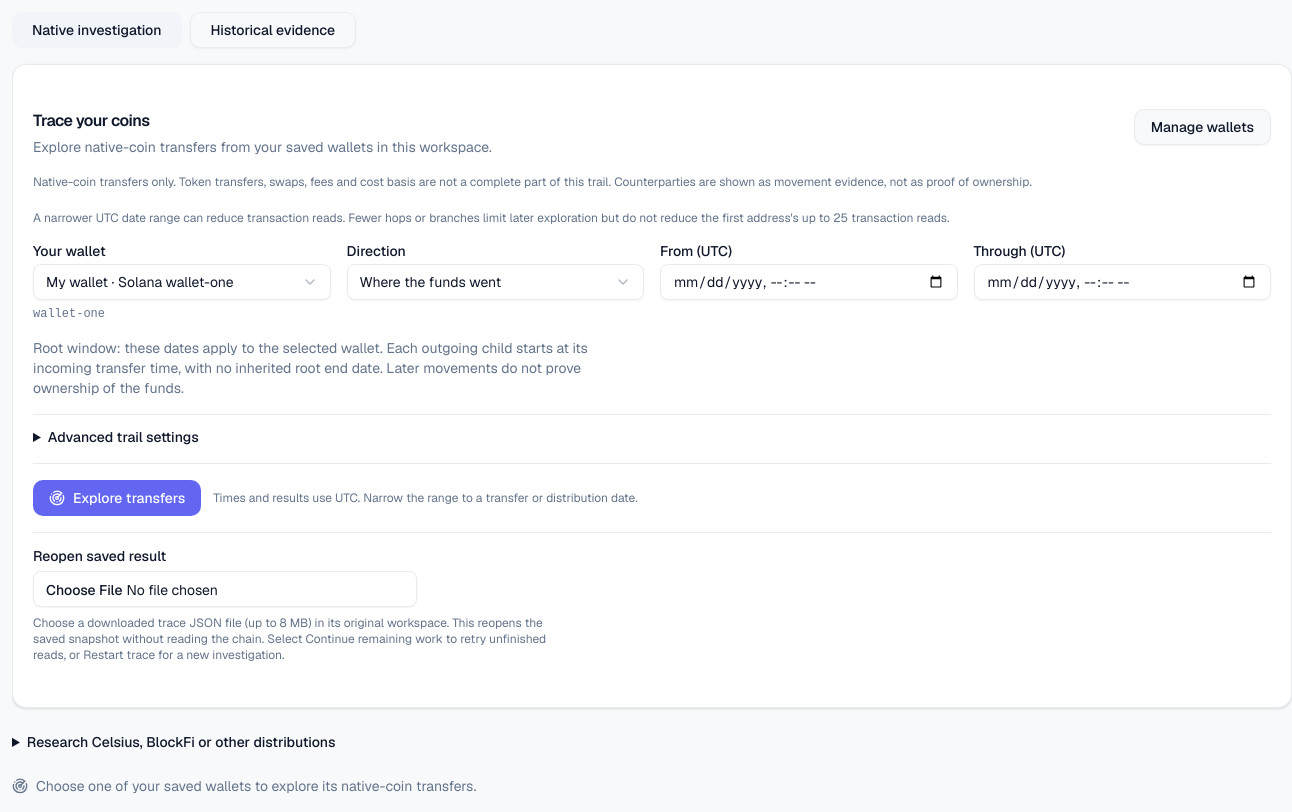
Test: owned wallet activity › rejects a reversed date window before contacting the chain
Expected: the dropdown named "Your wallet" is shown, [33,264,330,300]
Type "2025-02-01T00:00" into the field labelled "From (UTC)" at x=809, y=282, box [660,264,958,300]
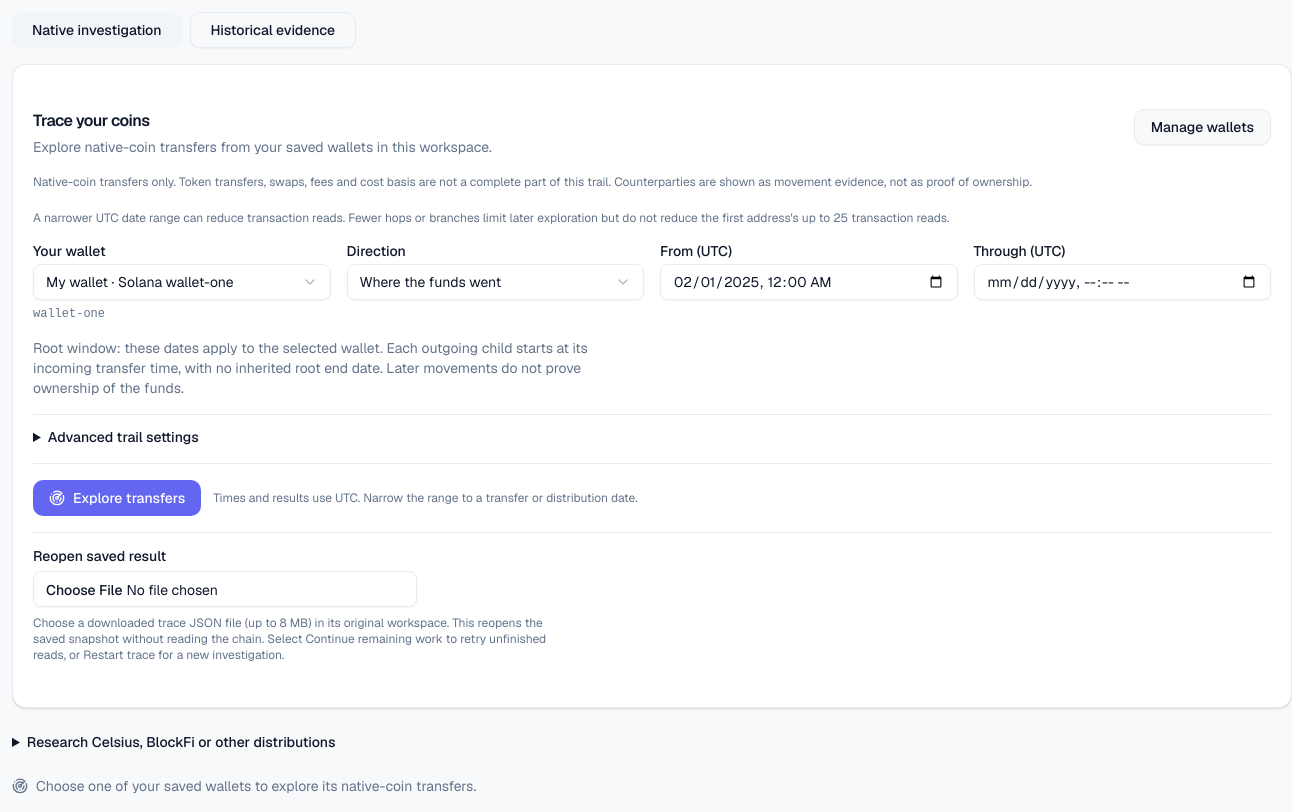
Type "2025-01-01T00:00" into the field labelled "Through (UTC)" at x=1122, y=282, box [974,264,1271,300]
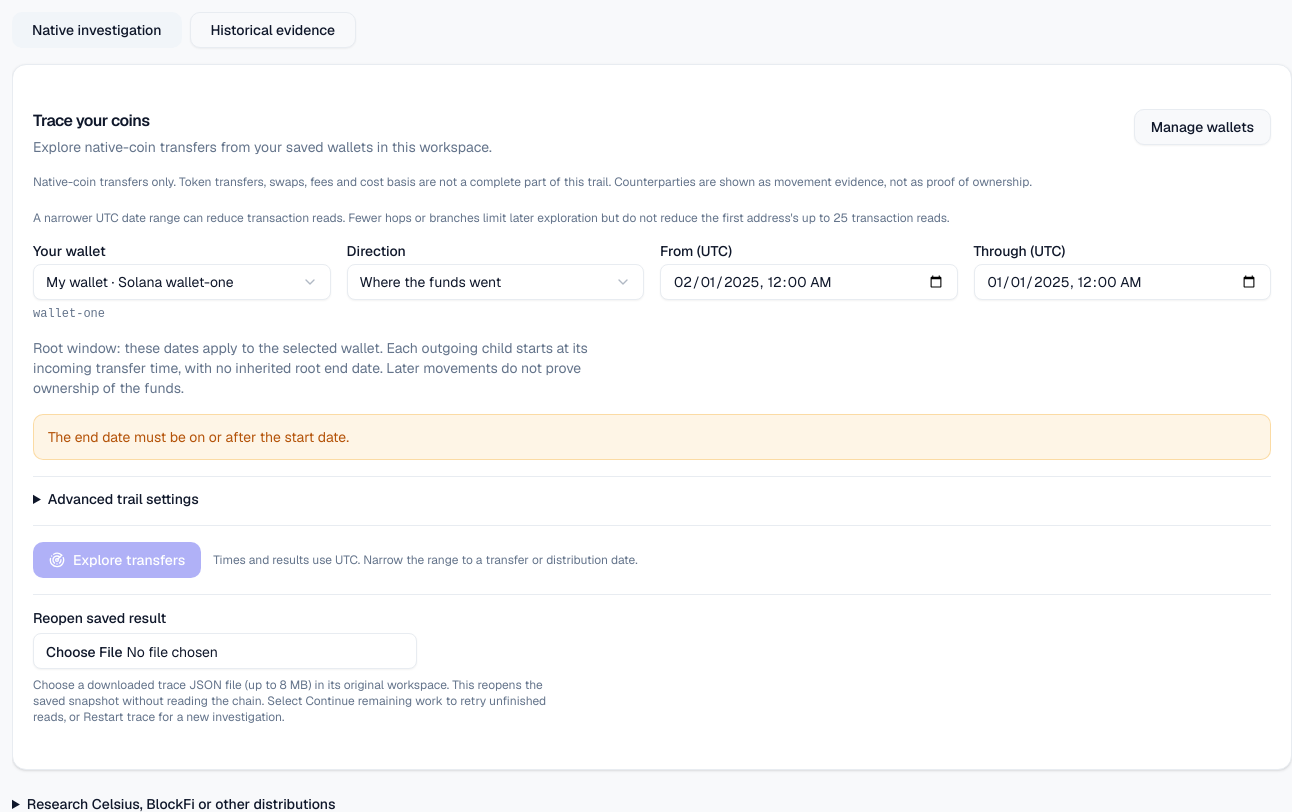
Expected: the button "Explore transfers" is disabled, [33,542,201,578]
